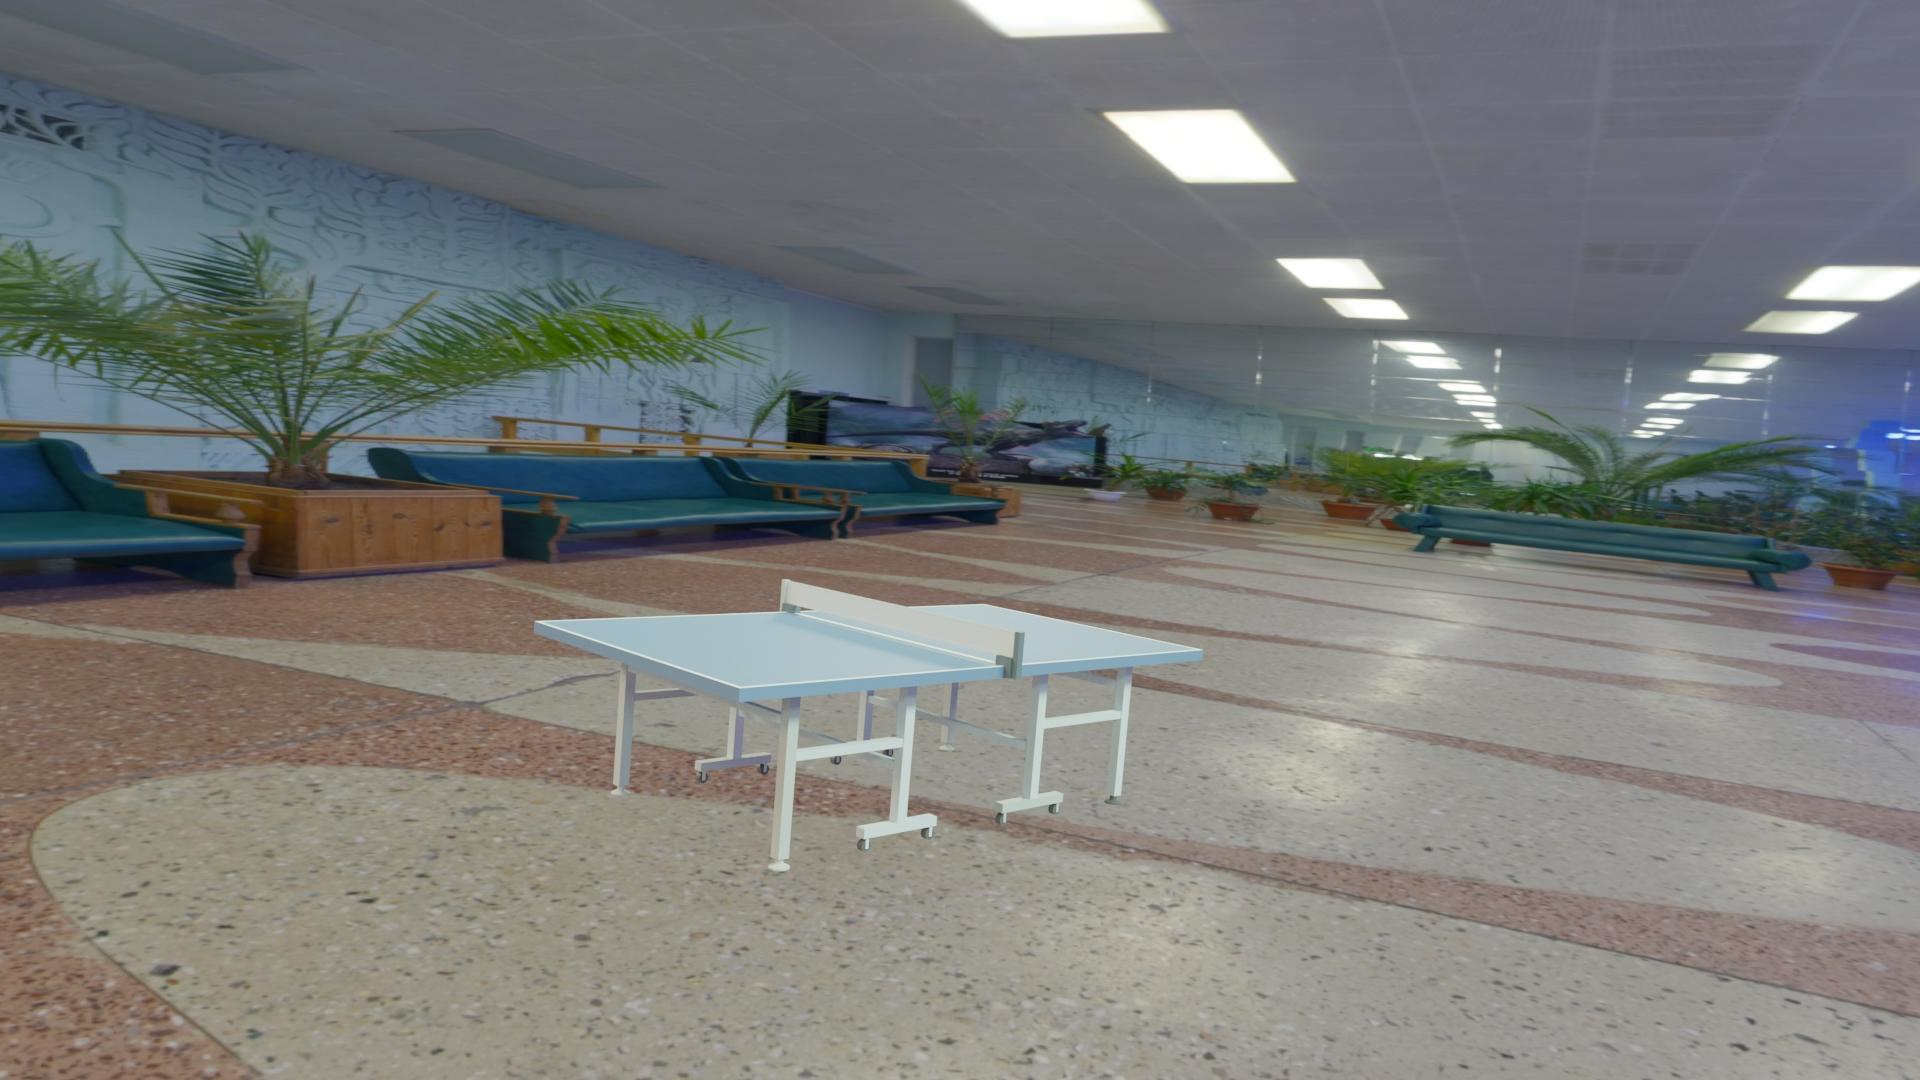table: (541, 605, 1197, 687)
